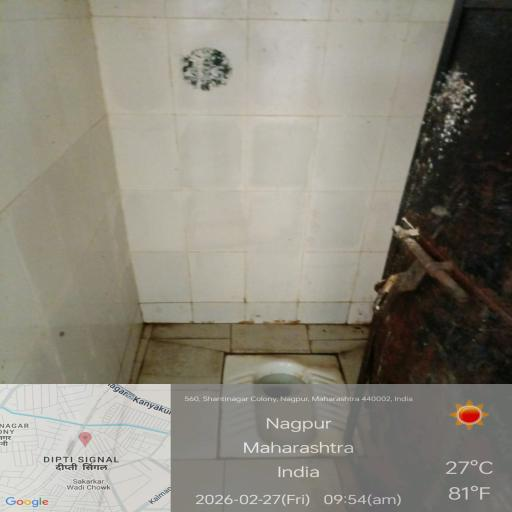clean_floor: (12, 11, 474, 285)
clean_indian: (226, 348, 373, 458)
partial_dirty_floor: (105, 309, 512, 512)
